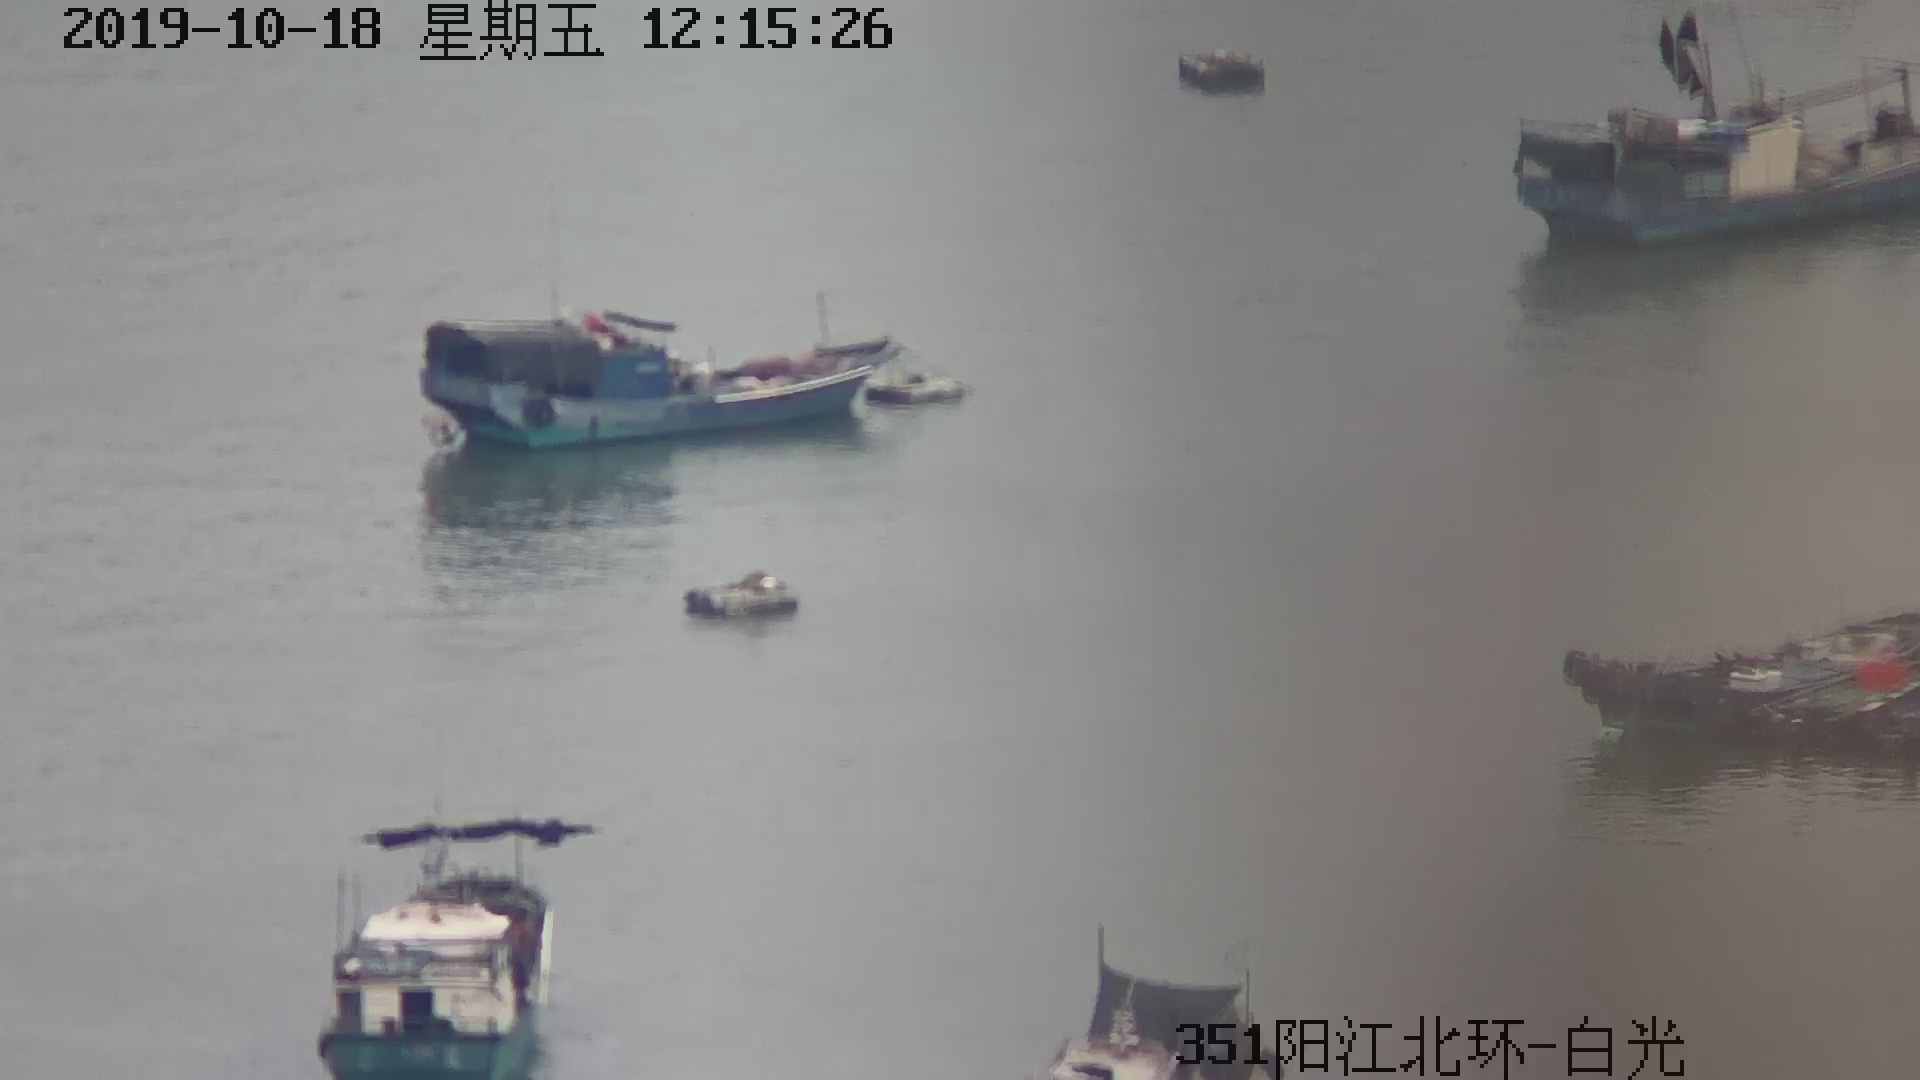ship: (1509, 1, 1920, 258), (413, 313, 886, 465), (320, 812, 583, 1080), (1563, 615, 1920, 737), (1178, 51, 1265, 95)
